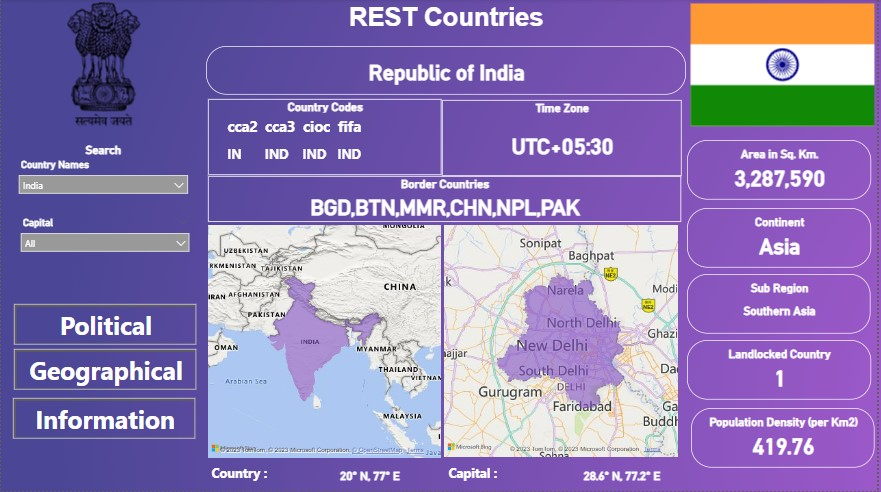

Layout of this report page (visuals, bound fields, positions):
{"tool":"powerbi","page":{"name":"Geographical","canvas":[1280,720],"ordinal":1},"visuals":[{"type":"simpleImageEBC4593F96F1425FB3D84C5BF02B5075","fields":{"imageURL":["all.flag url"]},"box":[1001.2,1,278.6,190],"z":0},{"type":"textbox","box":[300,0,701.4,68.6],"z":1000},{"type":"card","fields":{"Values":["Min(all.Official Name)"]},"box":[300,68.6,701.4,71.4],"z":2000},{"type":"simpleImageEBC4593F96F1425FB3D84C5BF02B5075","fields":{"imageURL":["all.coatofarms"]},"box":[0,0,300,190],"z":3000},{"type":"card","title":"Timezone","fields":{"Values":["Min(all.timezones)"]},"box":[1226.7,735,268.3,96.7],"z":4000},{"type":"textbox","box":[16.7,730,266.7,93.3],"z":5000},{"type":"actionButton","box":[18.3,445,266.5,58.7],"z":6000},{"type":"actionButton","box":[18.3,511,266.5,58.7],"z":7000},{"type":"actionButton","box":[17.1,583.1,266.5,58.7],"z":8000},{"type":"filledMap","fields":{"Category":["all.Common Name"],"Series":["all.Common Name"]},"box":[298.3,325.2,349.6,349.6],"z":9000},{"type":"card","title":"Population Density (per Km2)","fields":{"Values":["Min(all.Population Density)"]},"box":[1007.6,597.9,268.3,86.7],"z":10000},{"type":"card","title":"Landlocked Country","fields":{"Values":["CountNonNull(all.landlocked)"]},"box":[1002.6,497.4,268.6,87.1],"z":11000},{"type":"card","title":"Sub Region","fields":{"Values":["Min(all.subregion)"]},"box":[1002.5,401.3,268.3,86.7],"z":12000},{"type":"card","title":"Continent","fields":{"Values":["Min(all.continents)"]},"box":[1002.3,305.1,268.6,87.1],"z":13000},{"type":"card","title":"Area in Sq. Km.","fields":{"Values":["Min(all.area)"]},"box":[1002.6,206,268.6,87.1],"z":14000},{"type":"filledMap","title":"Capital","fields":{"Category":["all.capital"],"Series":["all.capital"]},"box":[643,325.2,350.8,348.4],"z":15000},{"type":"pivotTable","title":"Country Codes","fields":{"Values":["Min(all.cca2)","Min(all.cca3)","Min(all.cioc)","Min(all.fifa)"]},"box":[301.9,146.7,341.1,111.2],"z":16000},{"type":"card","title":"Time Zone","fields":{"Values":["Min(all.timezones)"]},"box":[643.5,146.9,349.6,111.2],"z":17000},{"type":"card","title":"Border Countries","fields":{"Values":["Min(all.borders)"]},"box":[301.9,257.9,690.7,67.2],"z":18000},{"type":"slicer","title":"Search","fields":{"Values":["all.Common Name"]},"box":[16.7,210,266.7,103.3],"z":19000},{"type":"slicer","title":"Search","fields":{"Values":["all.capital"]},"box":[18.3,314.2,266.5,64.8],"z":20000},{"type":"card","fields":{"Values":["Min(all.capital location)"]},"box":[819,674.8,174.8,45.2],"z":21000},{"type":"card","fields":{"Values":["Min(all.Country location)"]},"box":[434,674.8,210.3,45.2],"z":22000},{"type":"textbox","box":[301.9,674.8,132,45.2],"z":23000},{"type":"textbox","box":[647.9,674.8,132,45.2],"z":24000}]}

Visuals, with their boxes in screenshot pixels (x1, y1, x2, y2), scaled from the page's 1280x720 canvas onto the 881x492 screenshot:
simpleImageEBC4593F96F1425FB3D84C5BF02B5075 - all.flag url: 689 1 880 131
textbox: 206 0 689 47
card - Min(all.Official Name): 206 47 689 96
simpleImageEBC4593F96F1425FB3D84C5BF02B5075 - all.coatofarms: 0 0 206 130
actionButton: 13 304 196 344
actionButton: 13 349 196 389
actionButton: 12 398 195 439
filledMap - all.Common Name x all.Common Name: 205 222 446 461
"Population Density (per Km2)" card: 694 409 878 468
"Landlocked Country" card: 690 340 875 399
"Sub Region" card: 690 274 875 333
"Continent" card: 690 208 875 268
"Area in Sq. Km." card: 690 141 875 200
"Capital" filledMap: 443 222 684 460
"Country Codes" pivotTable: 208 100 443 176
"Time Zone" card: 443 100 684 176
"Border Countries" card: 208 176 683 222
"Search" slicer: 11 144 195 214
"Search" slicer: 13 215 196 259
card - Min(all.capital location): 564 461 684 491
card - Min(all.Country location): 299 461 443 491
textbox: 208 461 299 491
textbox: 446 461 537 491
